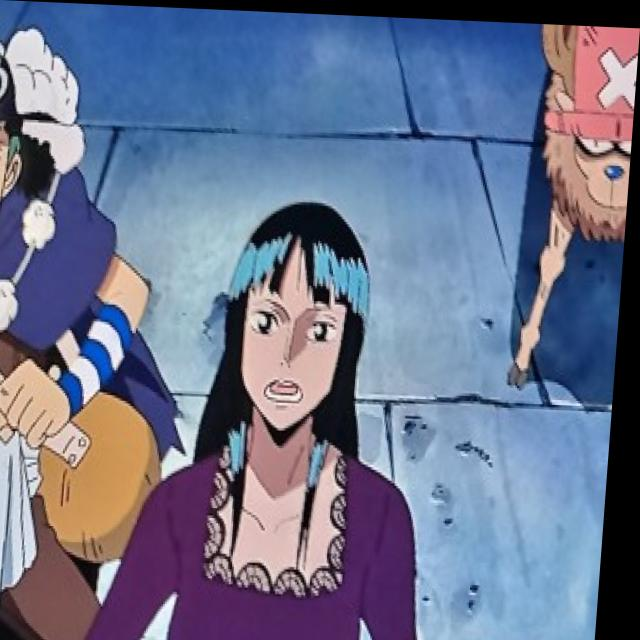Chyopa: (531, 19, 640, 243)
NicoRobin: (195, 180, 395, 488)
